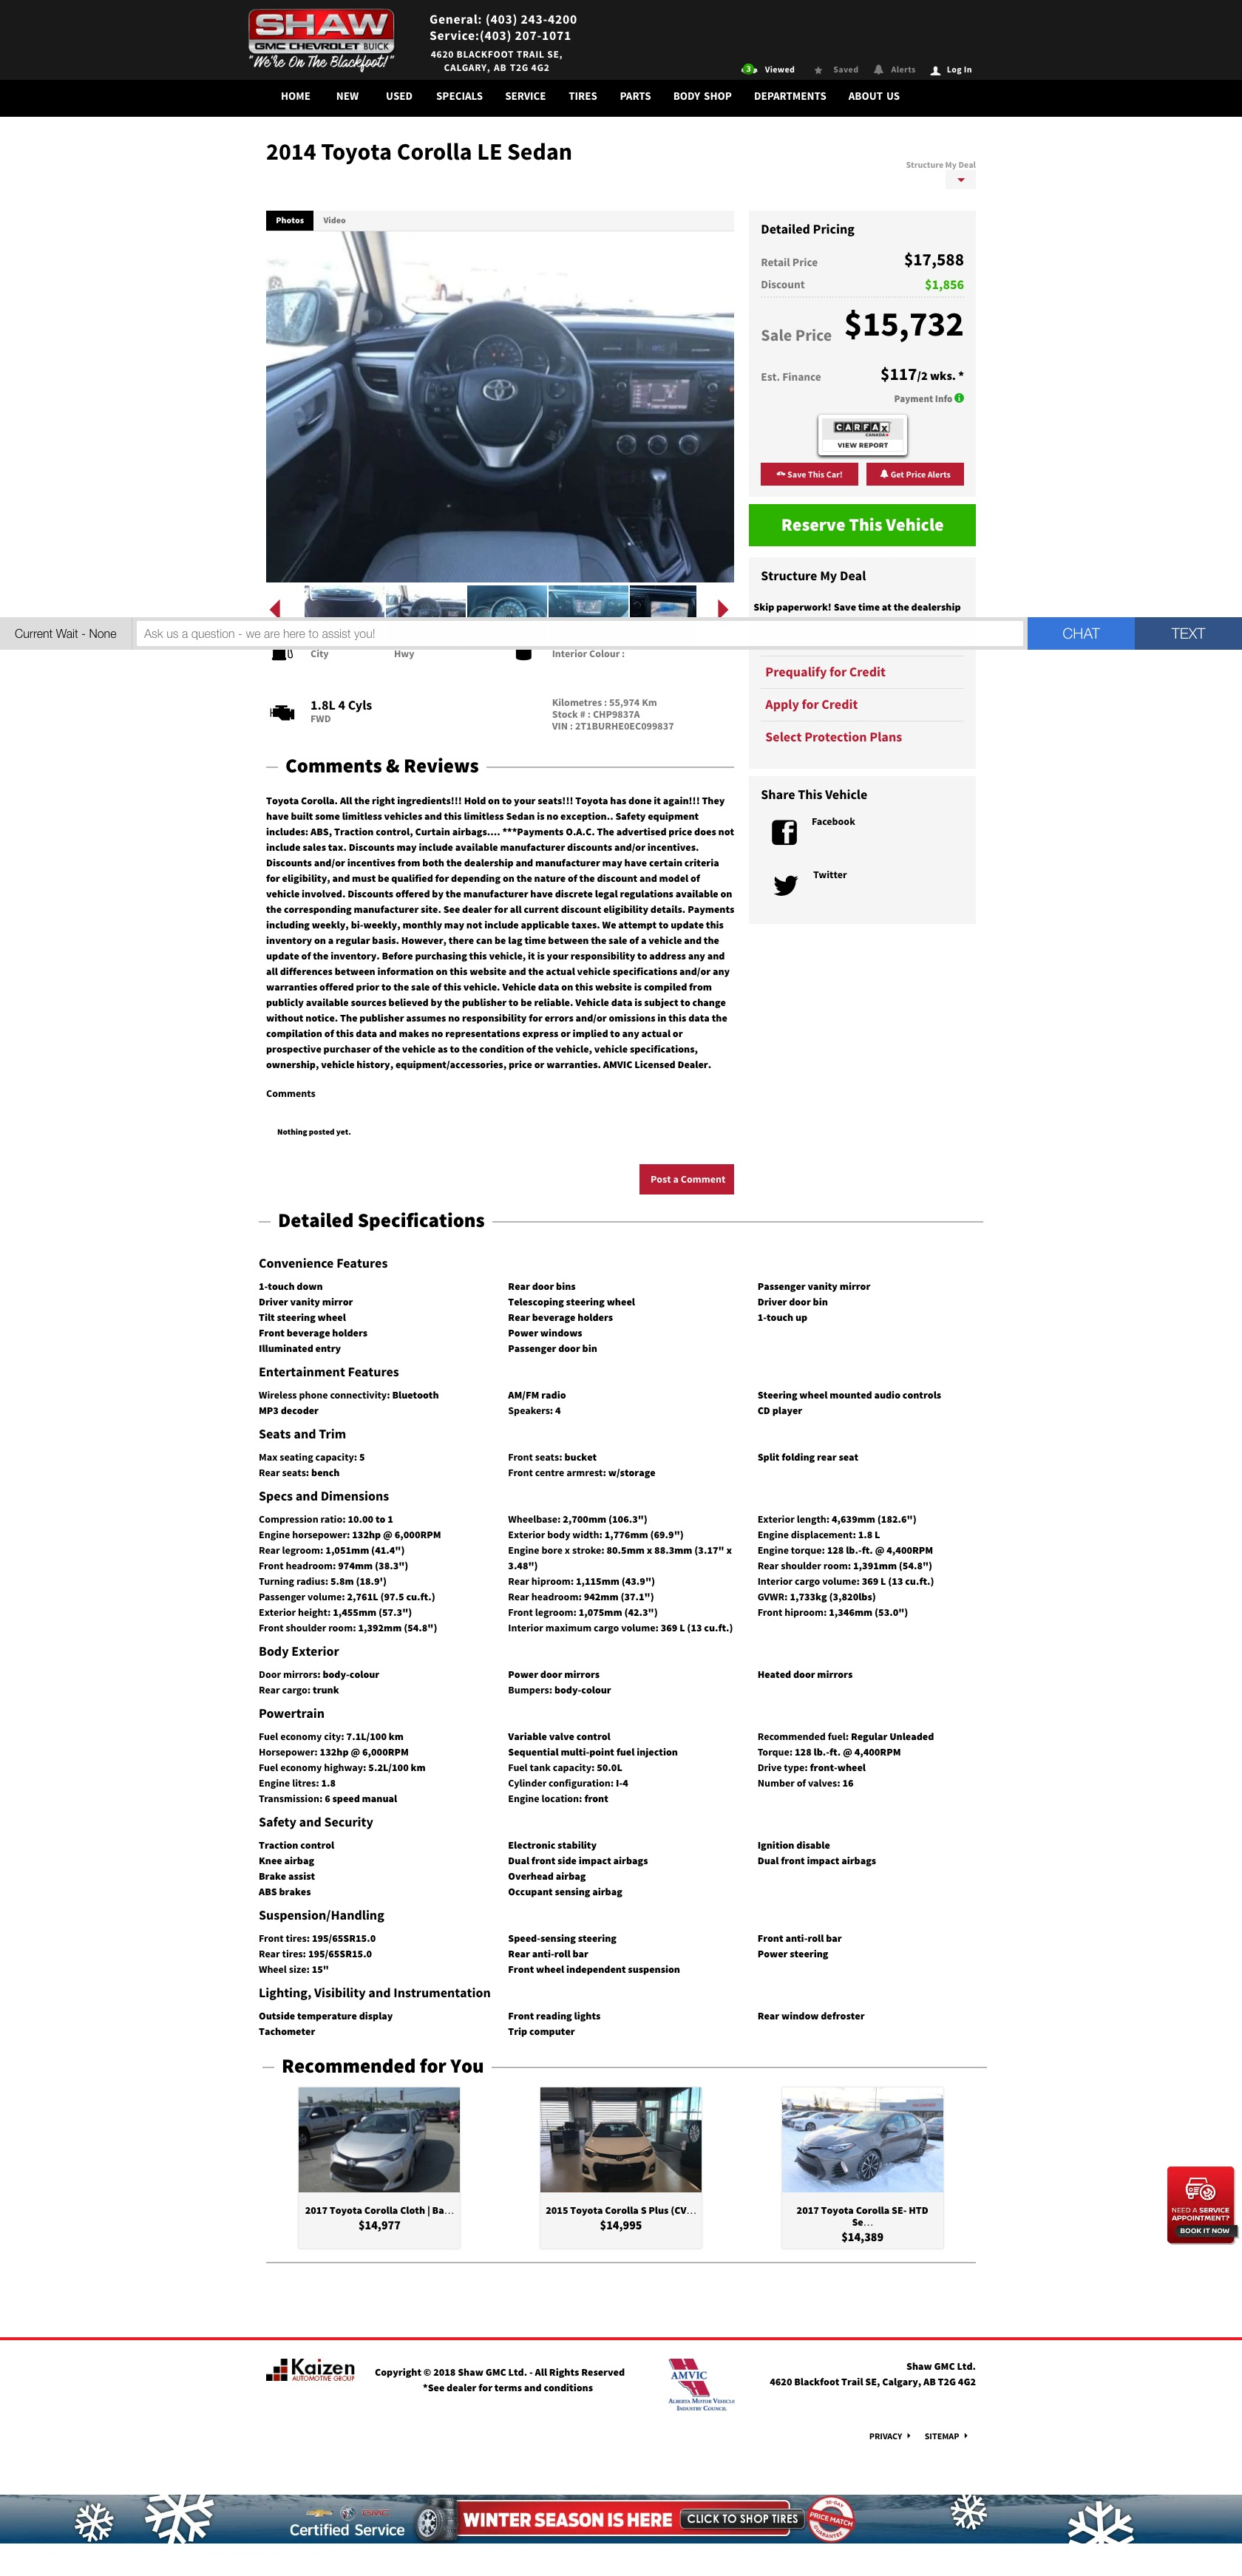car: (718, 598, 728, 623)
